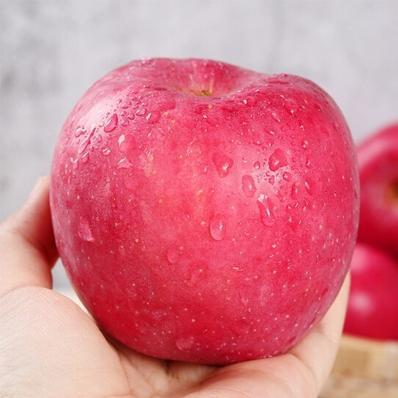apple: (51, 54, 359, 360)
